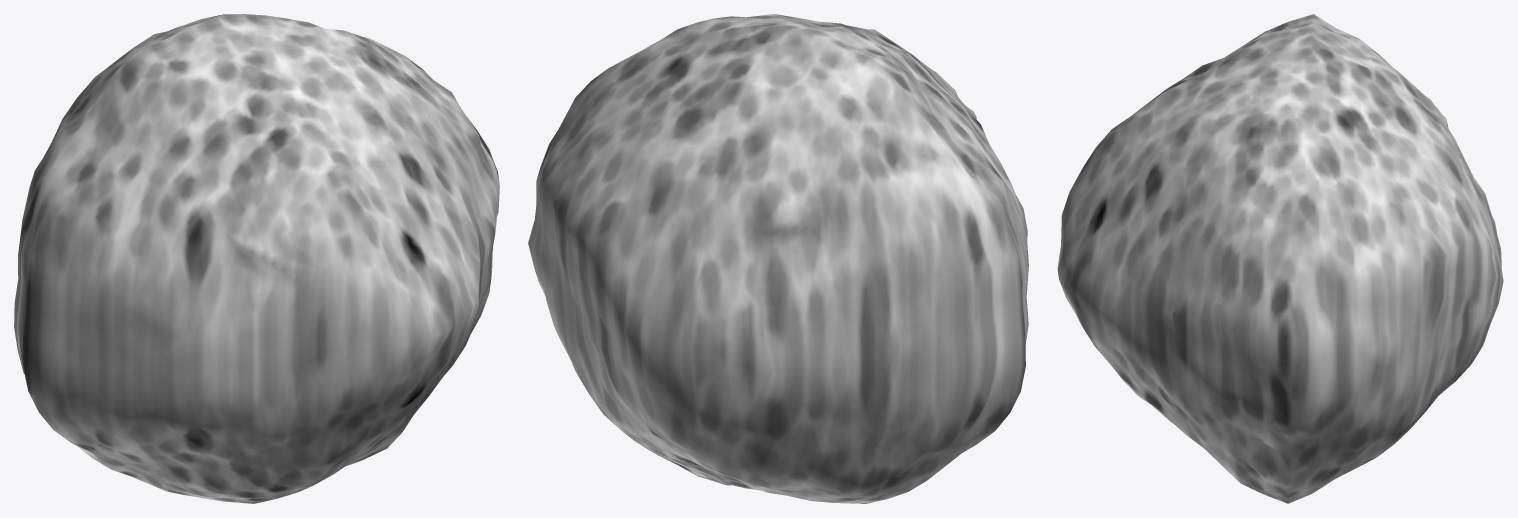
File: Bennu Radar.obj
3 views of the same model, side by side, from view 1: azimuth 30°, elevation 25°; view 2: azimuth 150°, elevation 25°; view 3: azimuth 270°, elevation 25° (orthographic). The views are drawn at different scales.
Visible parts, largest first — view 1: default; view 2: default; view 3: default.
Part boxes in pixels (x1,y1,x2,y2): default: [14, 14, 499, 503]; default: [528, 14, 1028, 503]; default: [1057, 14, 1503, 503].
Bounding box in the file's own units: 0.2833 × 0.268 × 0.2544.
Materials: 1 (1 with a texture image).
